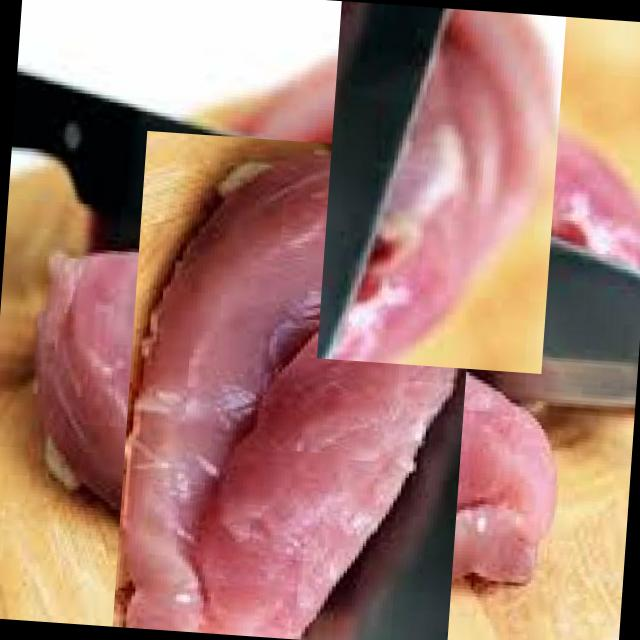chicken: (61, 178, 528, 640), (270, 0, 613, 329)
